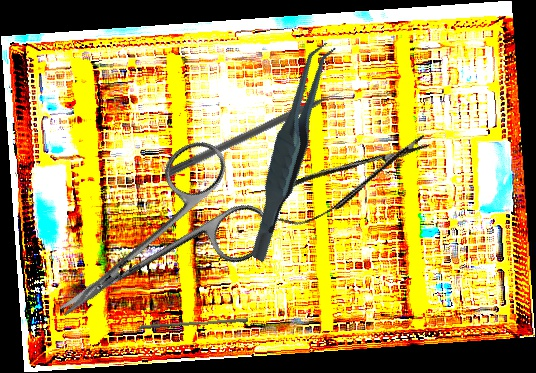Iris Scissors: (22, 130, 280, 363)
Micro Scissor: (260, 125, 438, 236)
Pusher: (164, 83, 353, 180), (138, 314, 249, 334)
Tissue Forceps: (207, 38, 375, 263)
